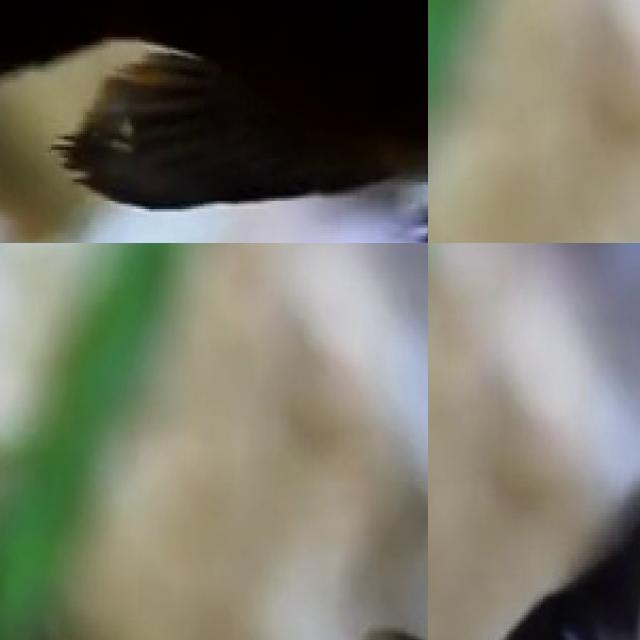fish: (0, 0, 428, 243), (428, 454, 640, 640)
